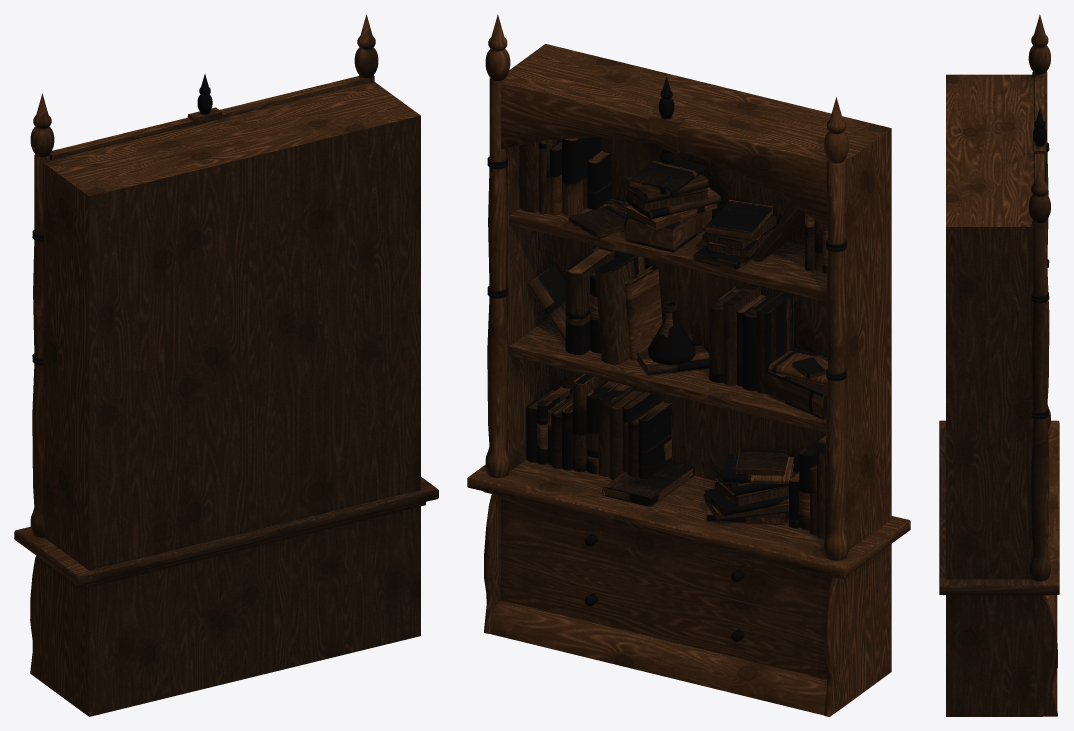
Rendered from librero.obj.
3 views of the same model, side by side, from view 1: azimuth 30°, elevation 25°; view 2: azimuth 150°, elevation 25°; view 3: azimuth 270°, elevation 25° (orthographic). The views are drawn at different scales.
Parts seen in each view (by area): view 1: Shkaf_Material.001; view 2: Shkaf_Material.001; view 3: Shkaf_Material.001.
Part boxes in pixels (<box>): Shkaf_Material.001: <box>14,14,438,716</box>; Shkaf_Material.001: <box>467,14,910,716</box>; Shkaf_Material.001: <box>939,14,1059,716</box>.
Size of the model in its own units: 3.38 by 5.25 by 1.04.
